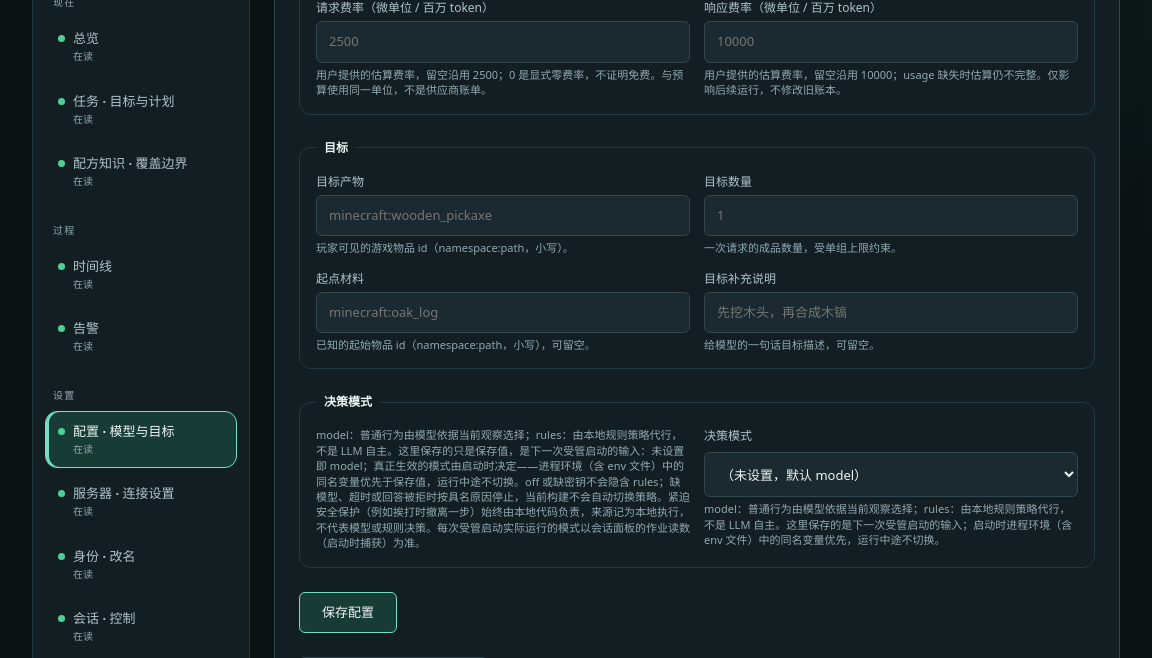
Test: 配置面板：显示已保存的文档 › 空文档场景渲染可编辑的空白表单：全空即合法，保存写出一份干净文档
(page scrolled)
Expected: the button with test id "config-submit" is enabled, [299,592,397,633]
Type "先砍树再做镐" into the field with test id "config-input-goal_direction" at (891, 312), box [704,292,1078,333]
(page scrolled)
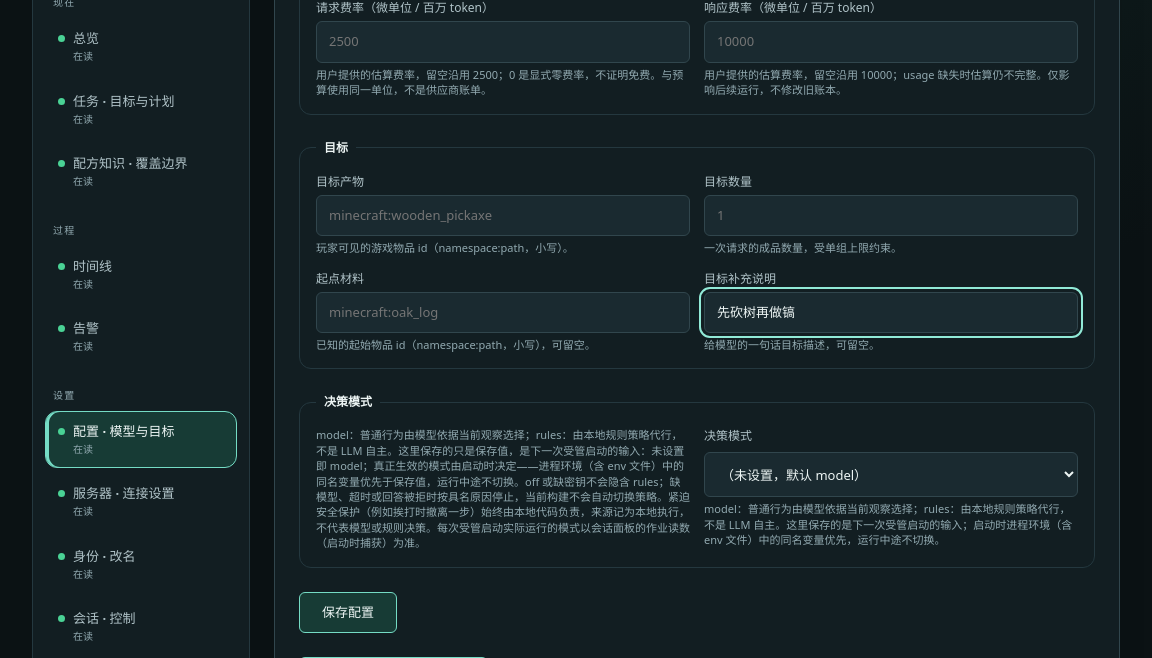
Click the button with test id "config-submit" at (348, 612), box [299,592,397,633]
(page scrolled)
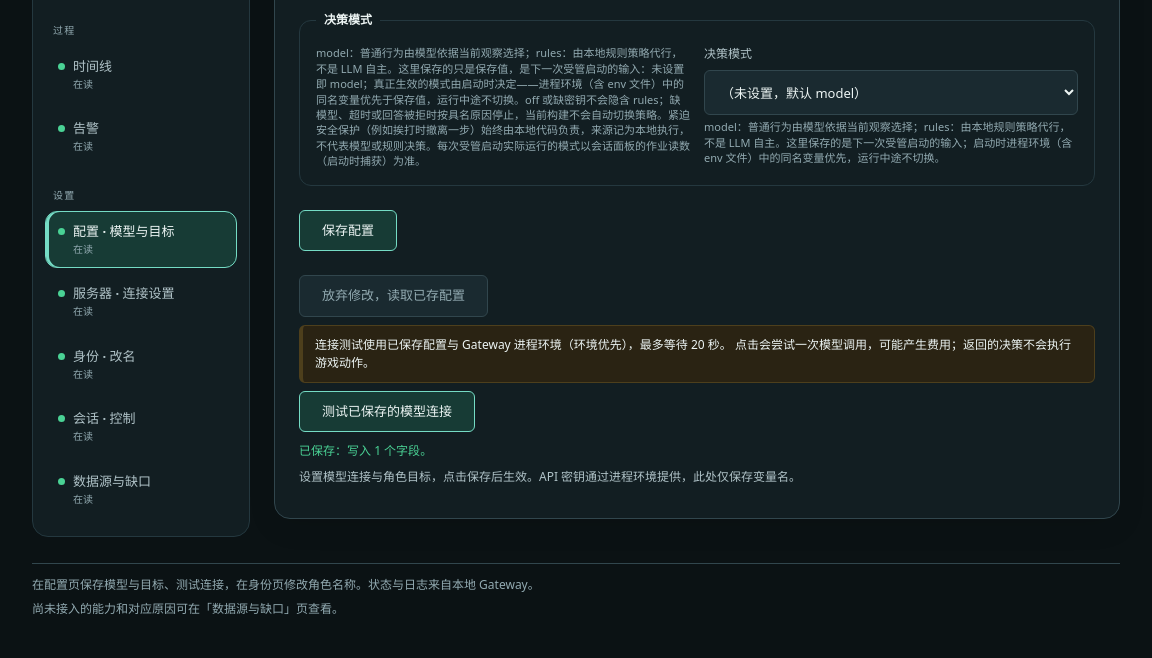
Expected: the text with test id "config-result" shows "已保存：写入 1 个字段", [299,442,432,459]
